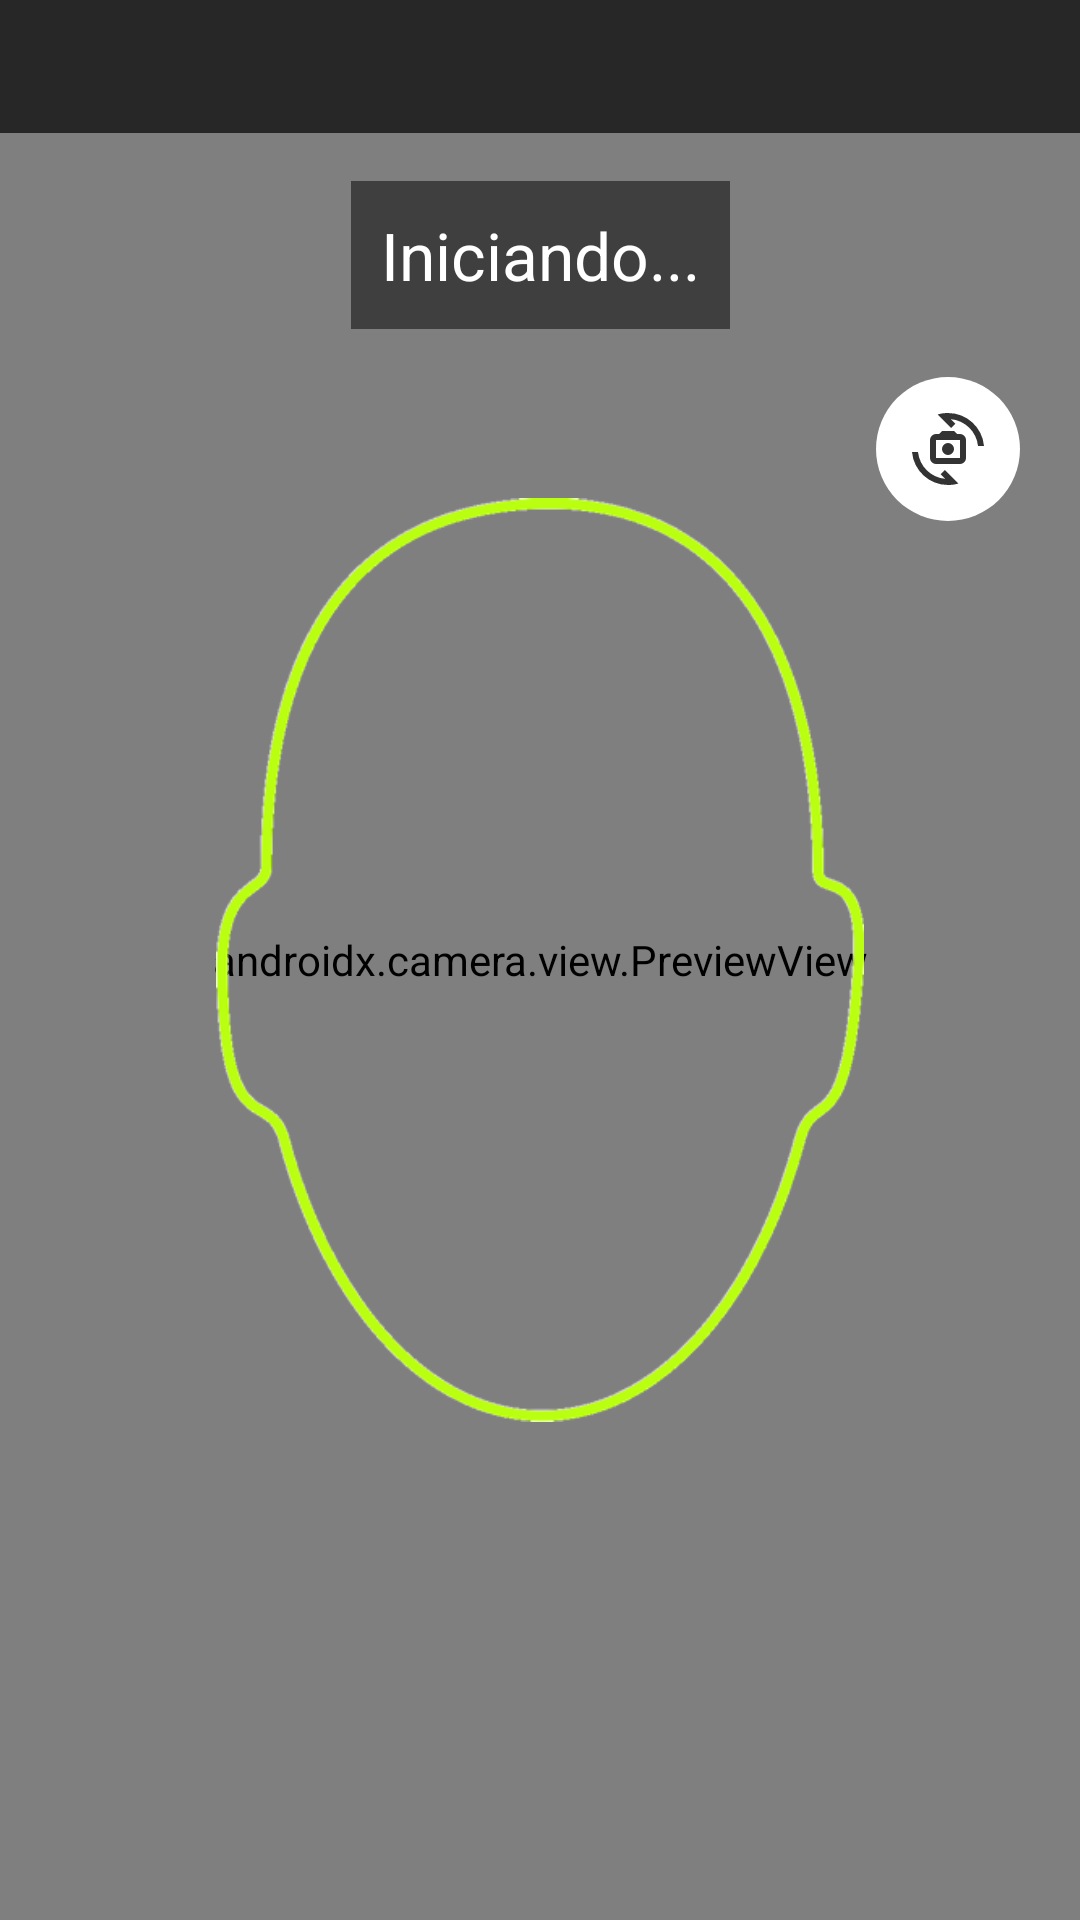

Icon bounding boxes for this 1080px x 1920px phone screenshot, format (x1, y1, x2, y2):
Trocar câmera: (876, 377, 1020, 521)
